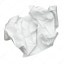plastic: (4, 4, 59, 57)
